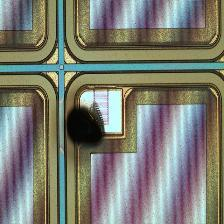PARTICLE: (61, 100, 113, 152)
